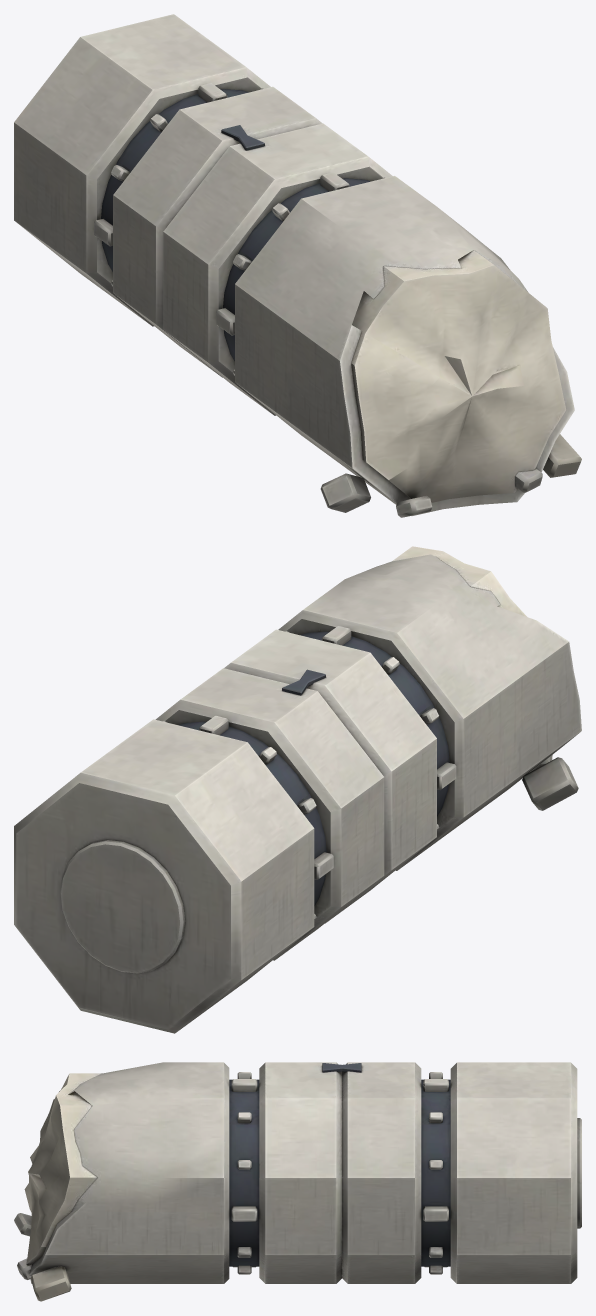
The model's file is shaft_drum.glb.
3 views of the same model, one above another, from view 1: azimuth 30°, elevation 25°; view 2: azimuth 150°, elevation 25°; view 3: azimuth 270°, elevation 25° (orthographic). The views are drawn at different scales.
Visible parts, largest first — view 1: shaft_drum_body; view 2: shaft_drum_body; view 3: shaft_drum_body.
Boxes of the visible parts, x1,y1,x2,y2 form: shaft_drum_body: [14, 14, 581, 517]; shaft_drum_body: [14, 546, 581, 1033]; shaft_drum_body: [14, 1062, 581, 1301].
Size of the model in its own units: 2.41 by 2.32 by 6.35.
1 material, 1 textured.
